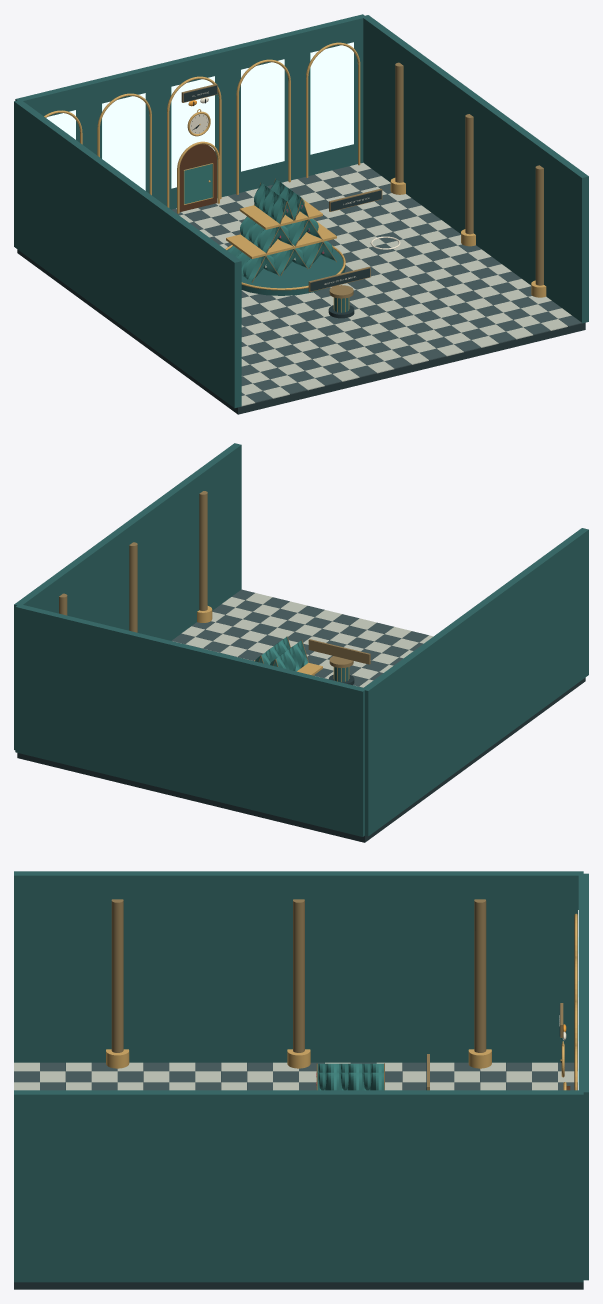
Rendered from tower.glb.
3 renders of one model, top to bottom at view 1: azimuth 30°, elevation 25°; view 2: azimuth 150°, elevation 25°; view 3: azimuth 270°, elevation 25°, orthographic. The views are drawn at different scales.
Parts seen in each view (by area): view 1: architecture_teal, architecture_whitetile, architecture_blacktile, architecture_window, architecture_gold, tower foundation, architecture_brass, door panel, king bridge, door inset, king bridge.001, folded wing.006 (+3 smaller); view 2: architecture_teal, architecture_blacktile, architecture_whitetile, tower foundation, architecture_brass, assembly controls, folded wing.010; view 3: architecture_teal, architecture_whitetile, architecture_blacktile, architecture_brass, tower foundation, architecture_gold, folded wing.013.
Part boxes in pixels (x1,y1,x2,y2): architecture_teal: [14, 14, 588, 408]; architecture_whitetile: [176, 162, 571, 406]; architecture_blacktile: [171, 166, 581, 402]; architecture_window: [46, 42, 353, 190]; architecture_gold: [44, 42, 546, 297]; tower foundation: [17, 249, 585, 414]; architecture_brass: [395, 62, 543, 285]; door panel: [179, 144, 216, 211]; king bridge: [226, 219, 336, 258]; door inset: [184, 163, 212, 204]; king bridge.001: [239, 199, 322, 229]; folded wing.006: [240, 216, 279, 252]; architecture_teal: [14, 443, 588, 836]; architecture_blacktile: [171, 589, 428, 687]; architecture_whitetile: [173, 593, 433, 687]; tower foundation: [17, 677, 585, 842]; architecture_brass: [59, 491, 207, 632]; assembly controls: [308, 639, 370, 664]; folded wing.010: [276, 640, 308, 671]; architecture_teal: [14, 871, 588, 1282]; architecture_whitetile: [14, 1062, 577, 1090]; architecture_blacktile: [14, 1062, 577, 1090]; architecture_brass: [111, 899, 486, 1052]; tower foundation: [14, 1064, 583, 1289]; architecture_gold: [106, 913, 577, 1090]; folded wing.013: [317, 1072, 384, 1090].
Size of the model in its own units: 20.4 by 8.4 by 22.2.
